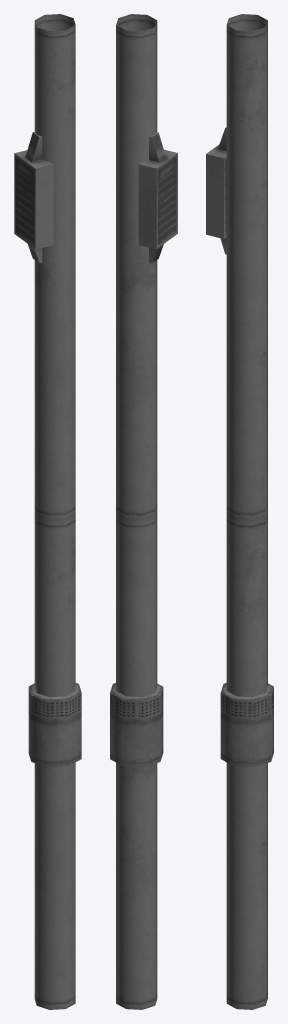
File: CP_Pipe_C_4m_02.fbx
3 views of the same model, side by side, from view 1: azimuth 30°, elevation 25°; view 2: azimuth 150°, elevation 25°; view 3: azimuth 330°, elevation 25° (orthographic).
Parts seen in each view (by area): view 1: CP_Pipe_C_4m_02; view 2: CP_Pipe_C_4m_02; view 3: CP_Pipe_C_4m_02.
Part boxes in pixels (<box>): CP_Pipe_C_4m_02: <box>14,14,81,1009</box>; CP_Pipe_C_4m_02: <box>110,14,177,1009</box>; CP_Pipe_C_4m_02: <box>206,14,273,1009</box>.
Size of the model in its own units: 23.19 by 400 by 20.39.
